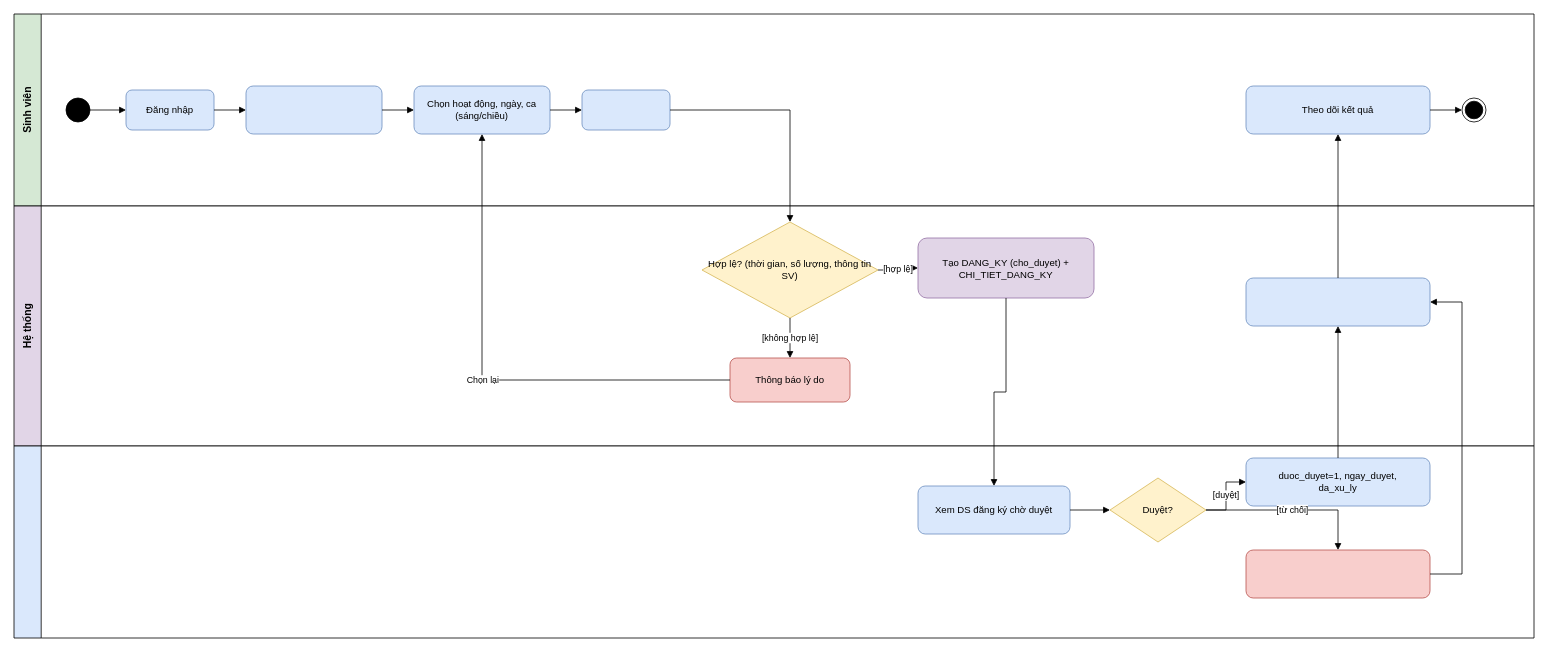
Some shapes in this 1548 by 652 pixel diagram are drawn without their labels. The shapes that lost their labels are listed below. From the top down, each one's box as (x1, y1, x2, y2) in pixels, then its label:
(245, 85, 382, 134): Xem DS hoạt động đang mở đăng ký
(581, 89, 670, 130): Gửi đăng ký
(1245, 277, 1430, 326): Cập nhật kết quả xét duyệt
(13, 445, 1534, 638): Cán bộ Phòng CTSV
(1245, 549, 1430, 598): Ghi chú lý do, da_huy
